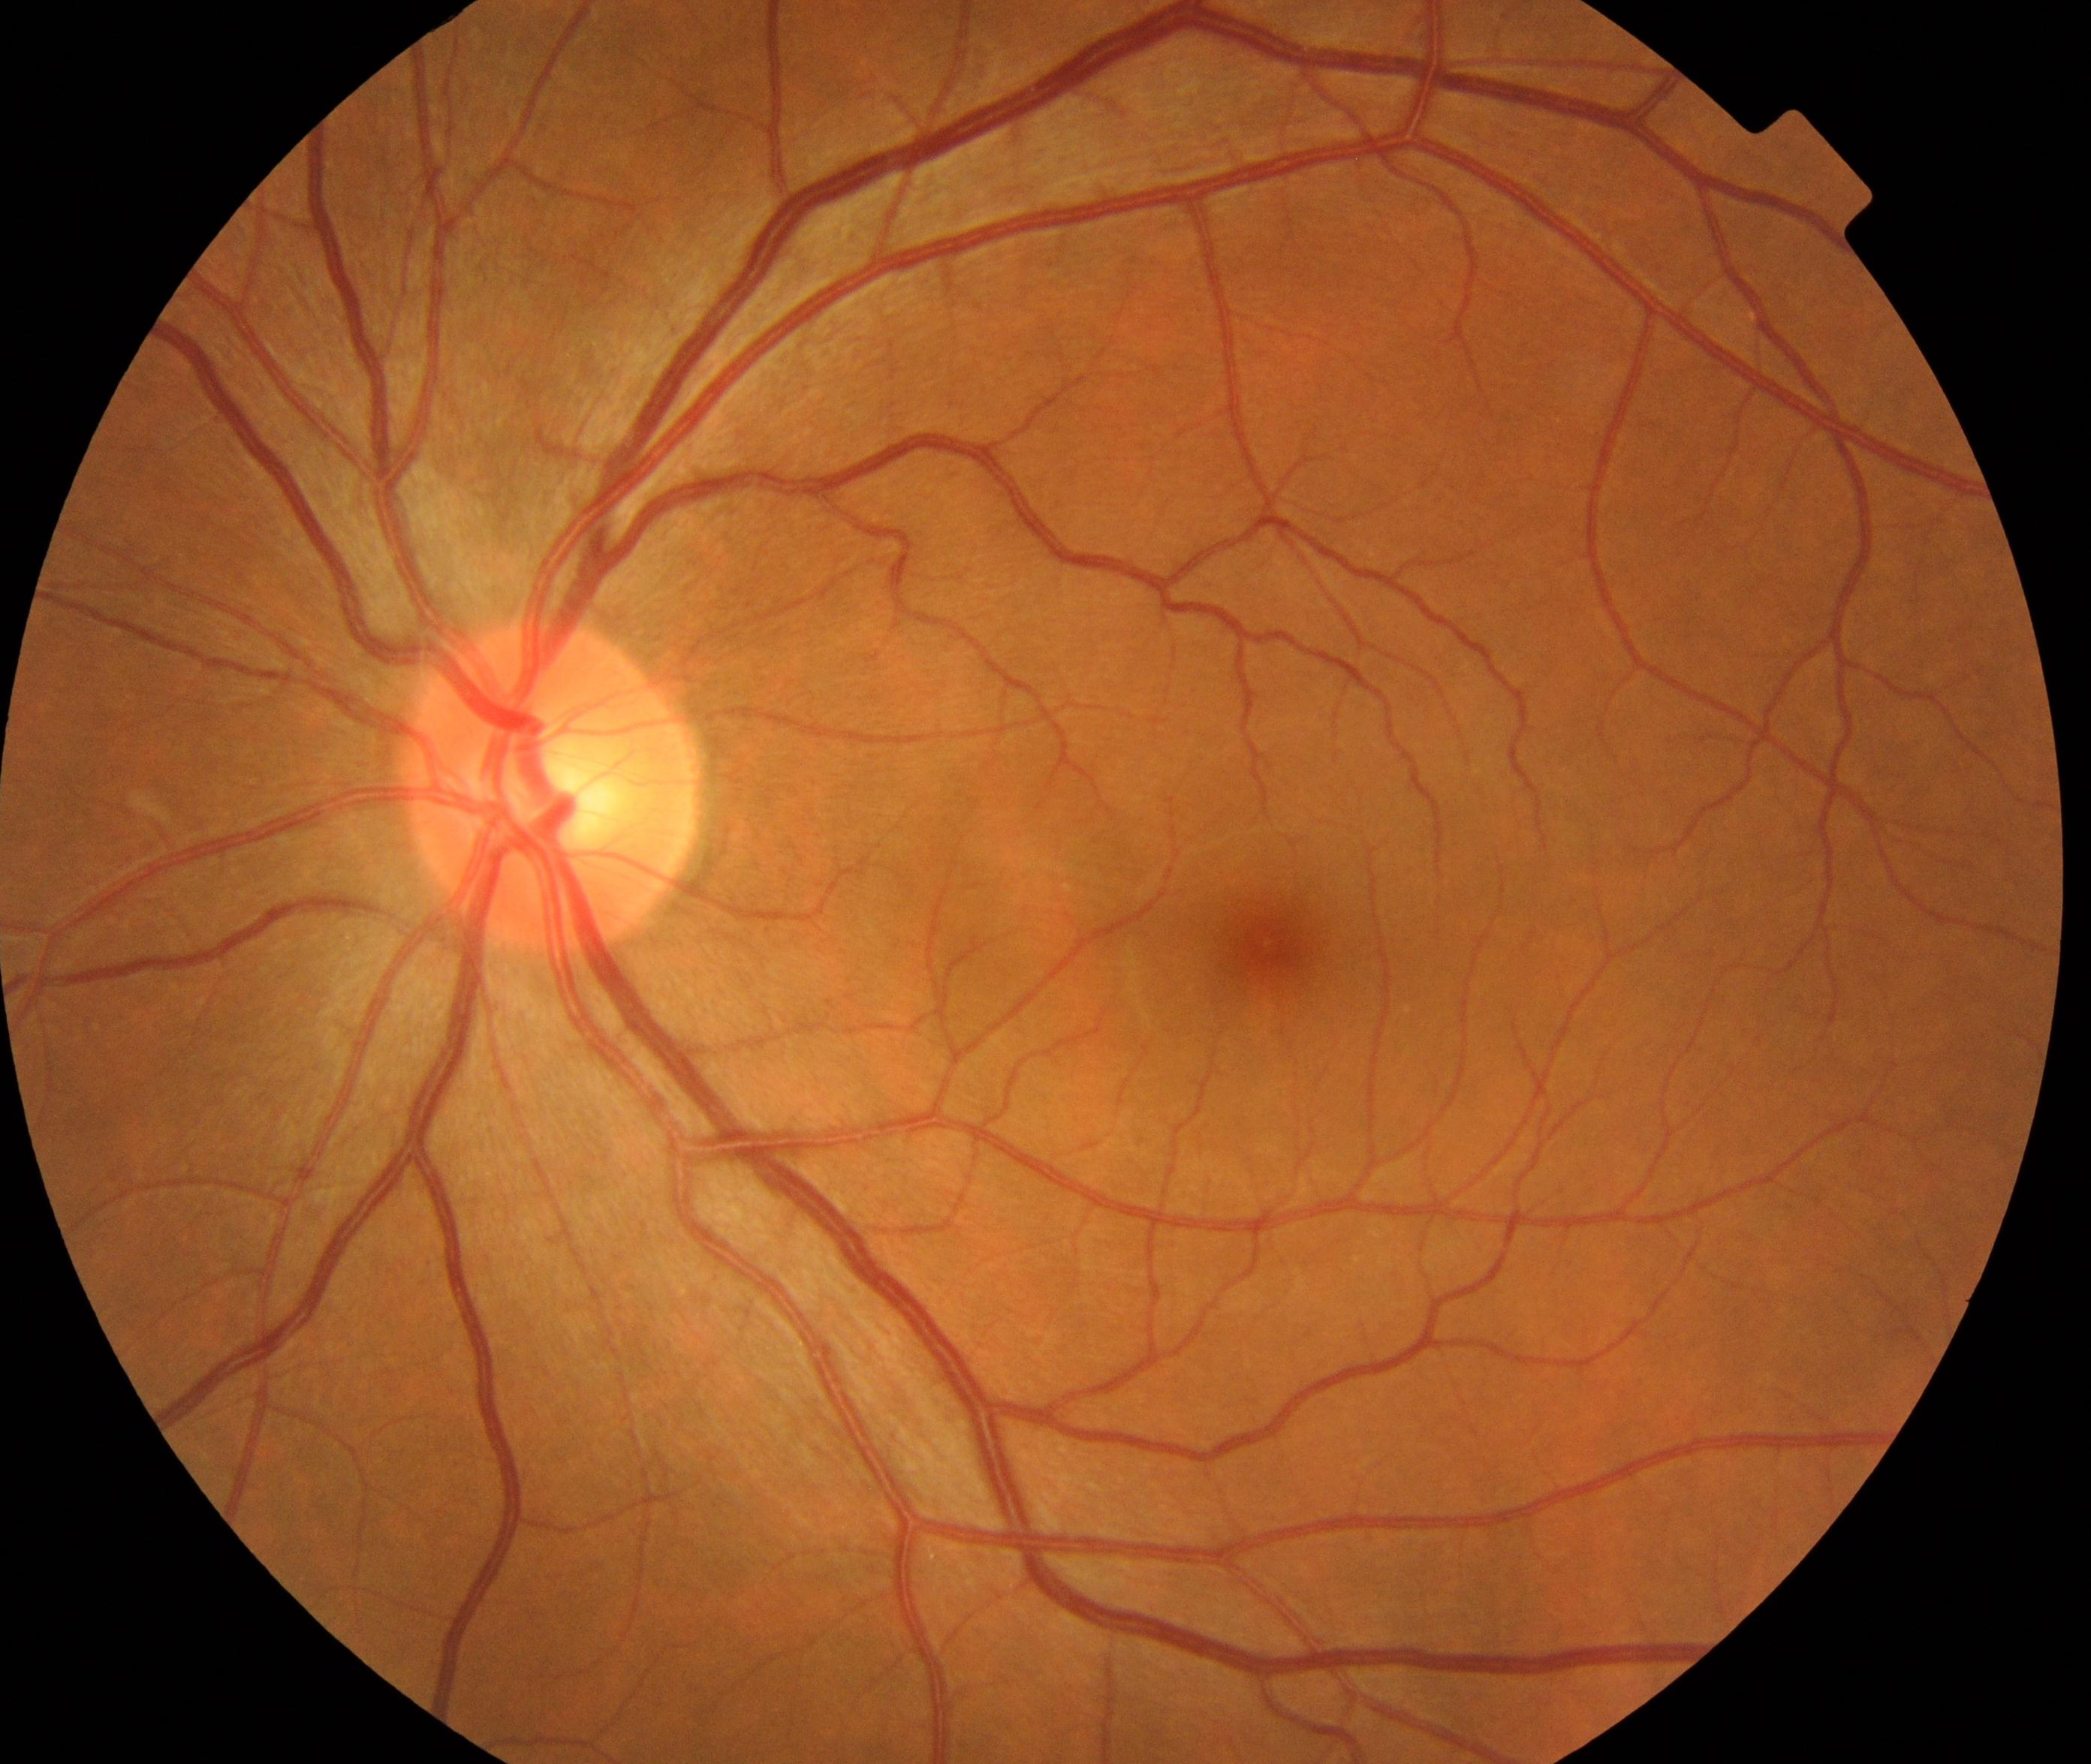Optic Cup: (497, 712, 621, 849)
Optic Disc: (395, 619, 700, 957)
